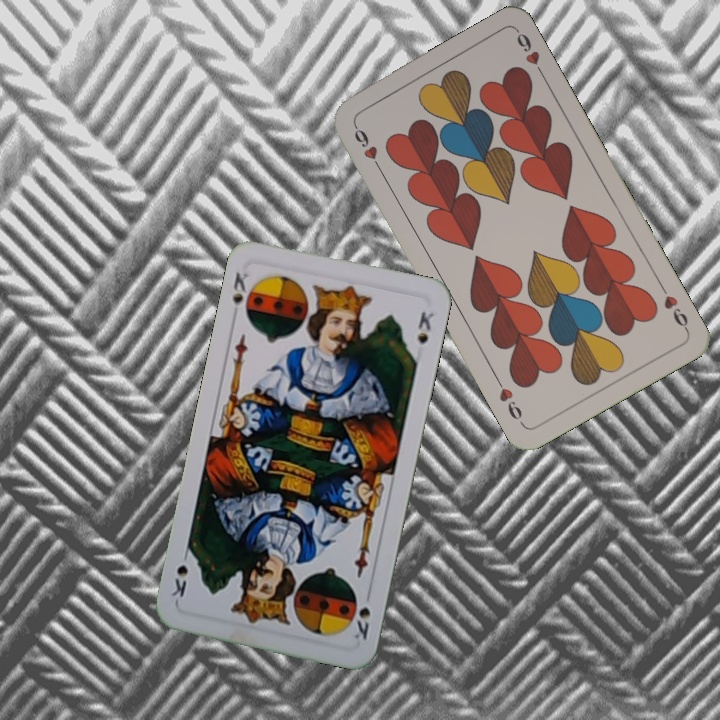H9: (349, 120, 385, 174), (656, 280, 691, 334)
SK: (228, 268, 257, 322), (350, 603, 373, 643)
